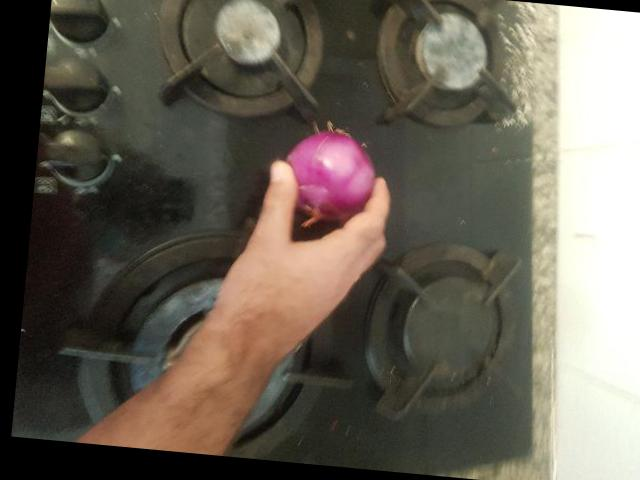onion: (439, 81, 525, 171)
